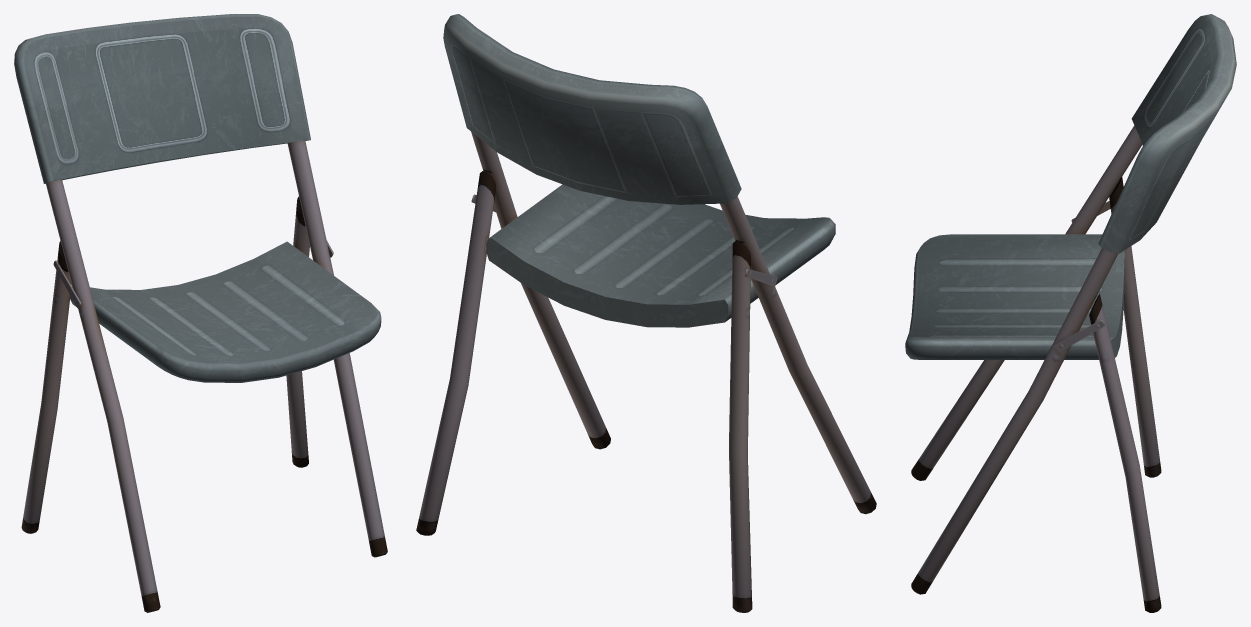
The model's file is Chair01_2.FBX.
3 views of the same model, side by side, from view 1: azimuth 30°, elevation 25°; view 2: azimuth 150°, elevation 25°; view 3: azimuth 270°, elevation 25° (orthographic). The views are drawn at different scales.
Visible parts, largest first — view 1: Chair01_2; view 2: Chair01_2; view 3: Chair01_2.
Boxes of the visible parts, x1,y1,x2,y2 form: Chair01_2: [14, 14, 387, 612]; Chair01_2: [416, 14, 876, 612]; Chair01_2: [905, 14, 1236, 612].
Size of what is drawn, in the model's own units: 0.6248 by 0.9683 by 0.6138.
